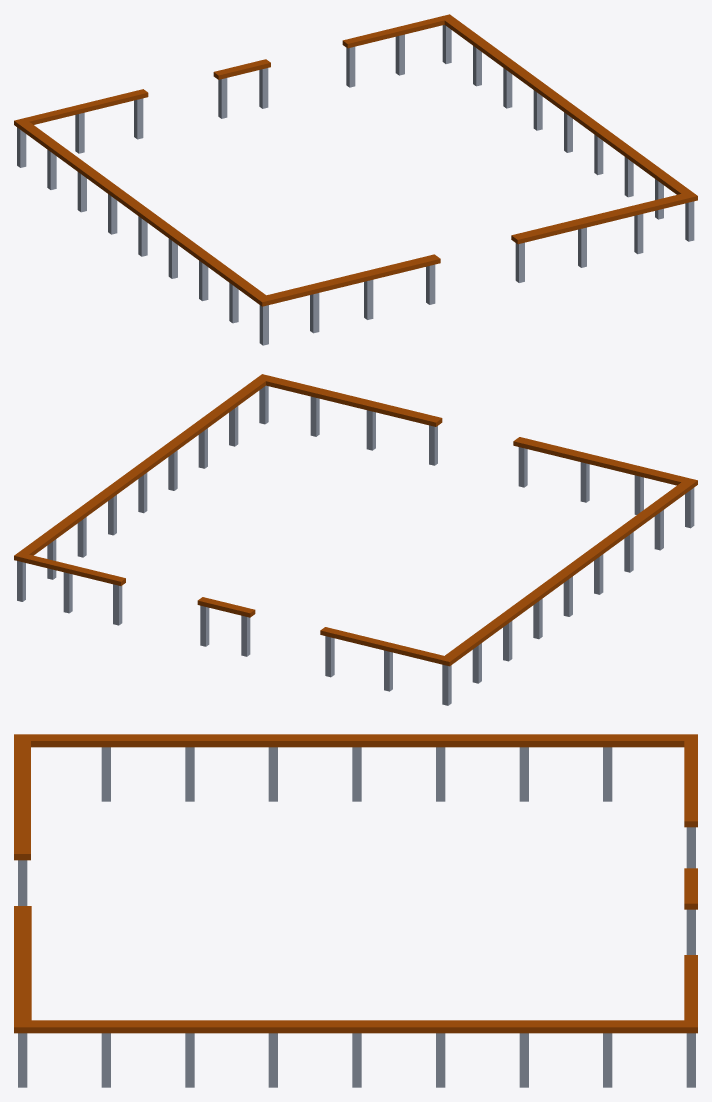
File: Railings 3rd floor.fbx
3 renders of one model, top to bottom at view 1: azimuth 30°, elevation 25°; view 2: azimuth 150°, elevation 25°; view 3: azimuth 270°, elevation 25°, orthographic. The views are drawn at different scales.
Visible parts, largest first — view 1: Railings.032; view 2: Railings.032; view 3: Railings.032.
Part boxes in pixels (x1,y1,x2,y2): Railings.032: [14, 14, 697, 345]; Railings.032: [14, 374, 697, 705]; Railings.032: [14, 734, 697, 1087].
Bounding box in the file's own units: 2027 × 200 × 2000.
